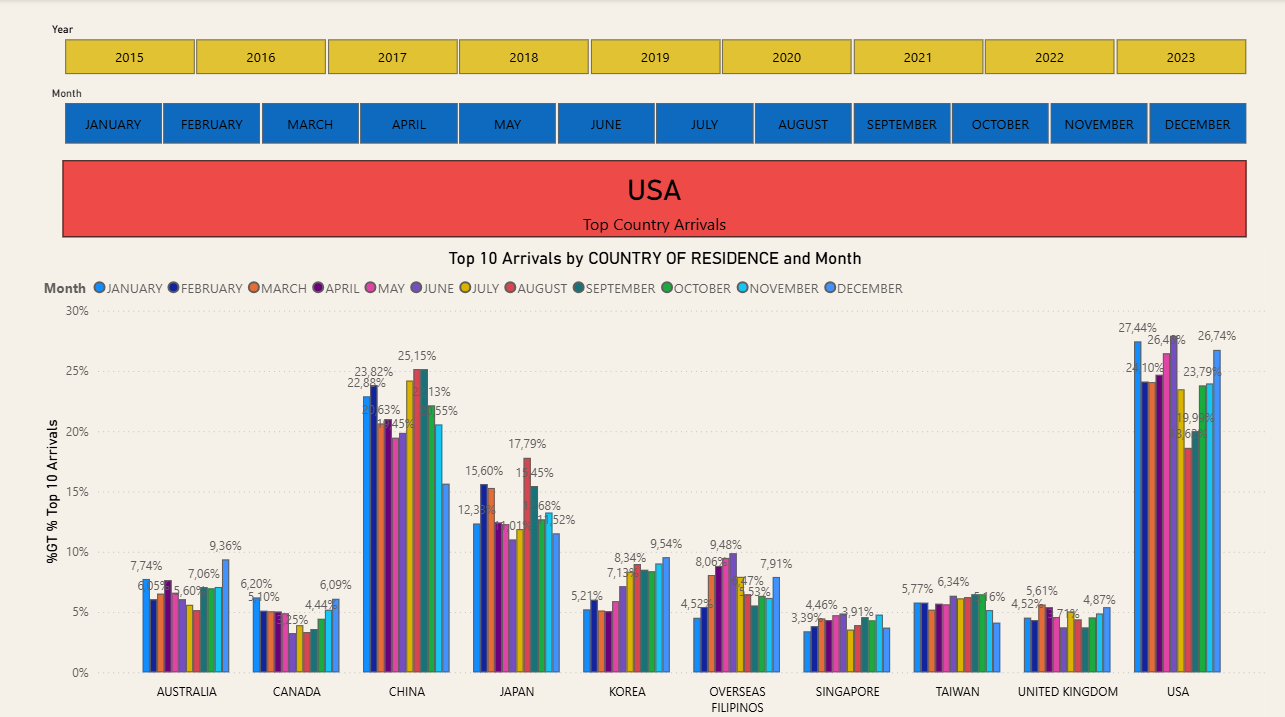

Layout of this report page (visuals, bound fields, positions):
{"tool":"powerbi","page":{"name":"Top Country Year/Month","canvas":[1280,720],"ordinal":2},"visuals":[{"type":"clusteredColumnChart","fields":{"Category":["df_master_2015_2023.COUNTRY OF RESIDENCE"],"Y":["Measures (2).% Top 10 Arrivals"],"Series":["df_master_2015_2023.Month"]},"box":[38.6,187.2,1226,533],"z":0},{"type":"slicer","fields":{"Values":["df_master_2015_2023.Month"]},"box":[38.6,118.6,1241.7,68.6],"z":1000},{"type":"slicer","fields":{"Values":["Dim_Date.Year"]},"box":[38.6,54.3,1241.7,64.3],"z":2000},{"type":"card","fields":{"Values":["Measures (2).Top Country Arrivals"]},"box":[764.3,241.5,299.1,97.4],"z":3000}]}

Visuals, with their boxes in screenshot pixels (x1, y1, x2, y2), scaled from the page's 1280x720 canvas onto the 1285x717 screenshot:
clusteredColumnChart - df_master_2015_2023.COUNTRY OF RESIDENCE x Measures (2).% Top 10 Arrivals: x1=39 y1=186 x2=1270 y2=716
slicer - df_master_2015_2023.Month: x1=39 y1=118 x2=1284 y2=186
slicer - Dim_Date.Year: x1=39 y1=54 x2=1284 y2=118
card - Measures (2).Top Country Arrivals: x1=767 y1=240 x2=1068 y2=337
